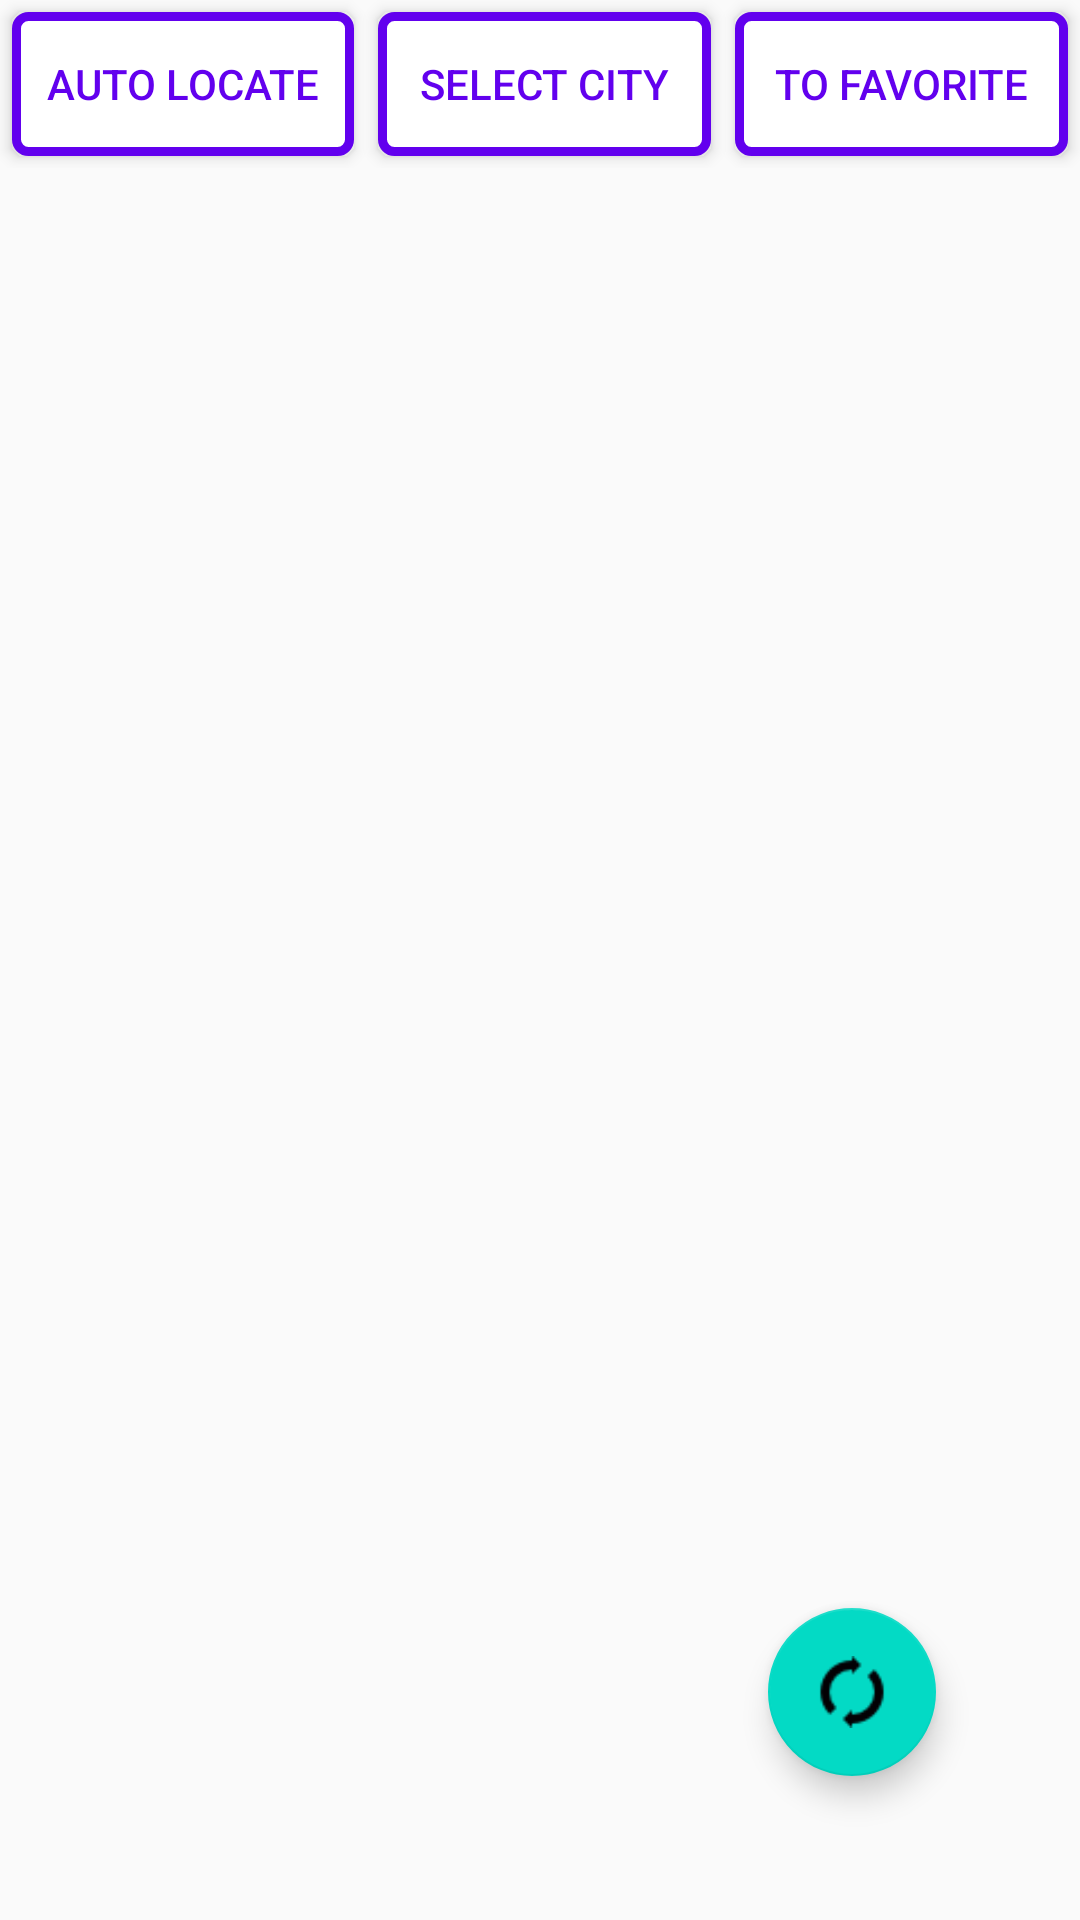

Where icons sit on this 1080 × 1920 app screen, as (x1, y1, x2, y2):
update: (768, 1608, 936, 1776)
